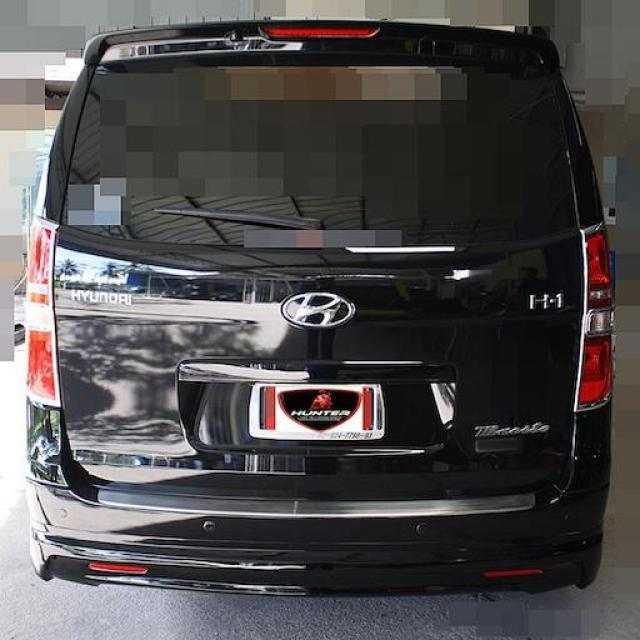back_bumper: (26, 401, 612, 596)
back_glass: (60, 52, 581, 247)
back_left_light: (26, 216, 65, 412)
back_right_light: (577, 223, 615, 412)
trunk: (52, 224, 585, 501)
